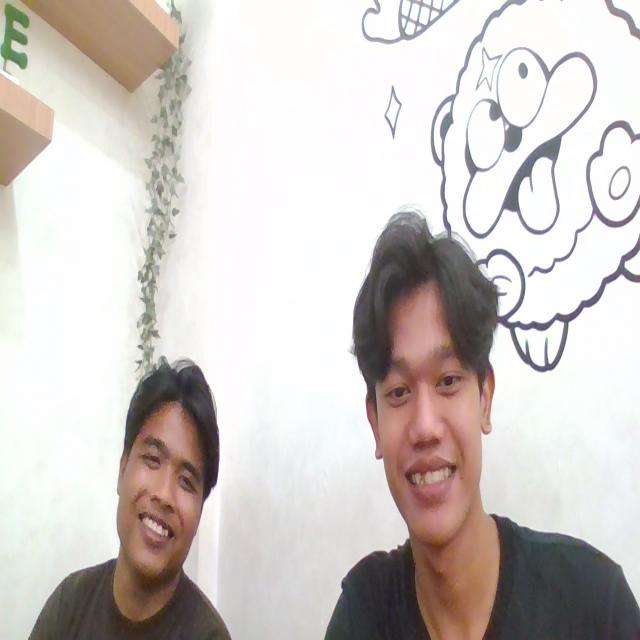sem_oculos: (369, 344, 491, 412), (125, 434, 209, 506)
